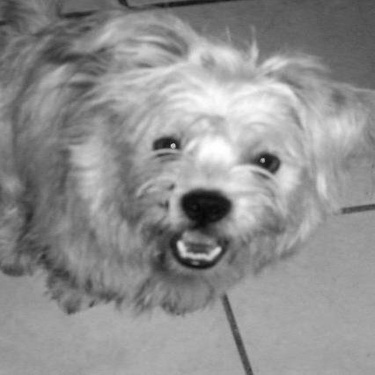dog: (2, 1, 368, 325)
